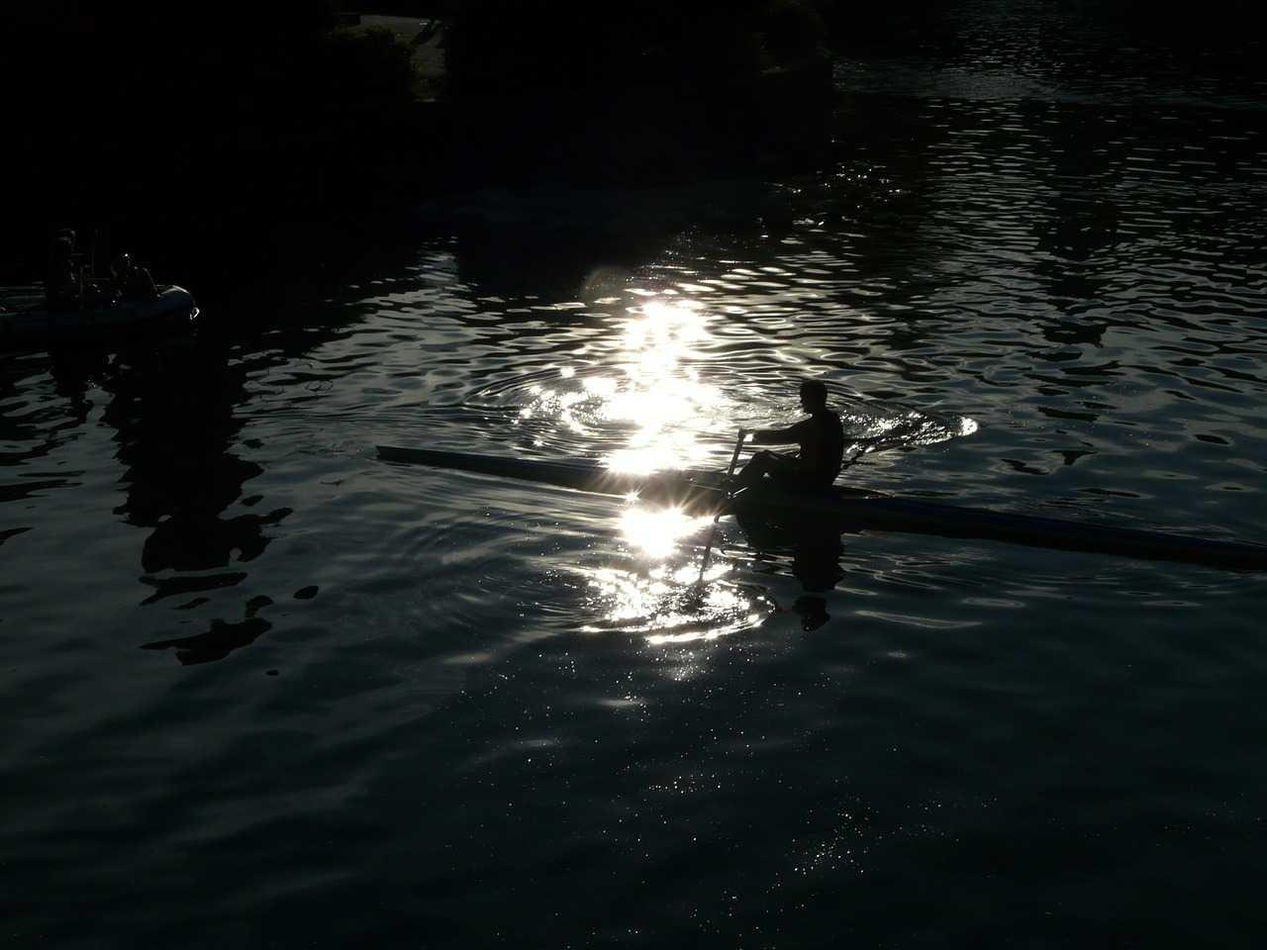kayak: (1, 272, 200, 349)
